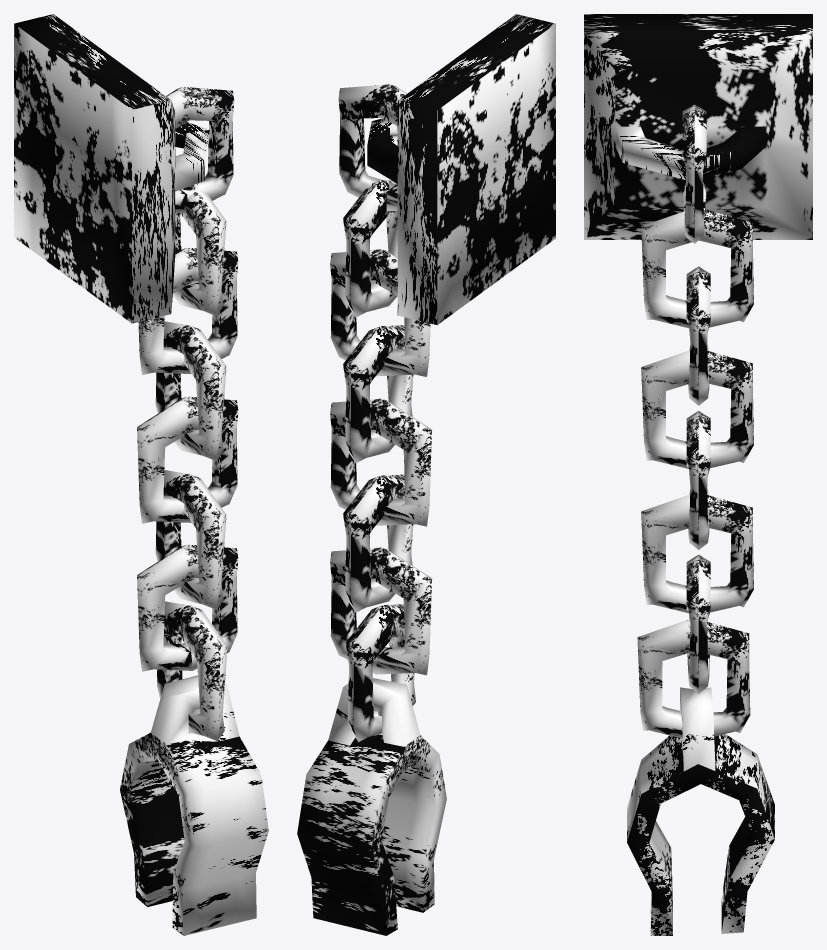
Rendered from Kette_1.fbx.
3 views of the same model, side by side, from view 1: azimuth 30°, elevation 25°; view 2: azimuth 150°, elevation 25°; view 3: azimuth 270°, elevation 25° (orthographic). The views are drawn at different scales.
Visible parts, largest first — view 1: Cube.025, Cube.026, Cube.021, Cube.016, Cube.022, Cube.023, Cube.018, Cube.020, Cube.017, Cube.024; view 2: Cube.025, Cube.026, Cube.016, Cube.021, Cube.022, Cube.023, Cube.020, Cube.018, Cube.024, Cube.017; view 3: Cube.025, Cube.026, Cube.024, Cube.022, Cube.023, Cube.018, Cube.017, Cube.016, Cube.021, Cube.020.
Boxes of the visible parts, <box> form: Cube.025: <box>14,14,209,323</box>; Cube.026: <box>120,675,268,935</box>; Cube.021: <box>137,396,238,523</box>; Cube.016: <box>137,544,238,671</box>; Cube.022: <box>155,470,226,609</box>; Cube.023: <box>155,321,226,460</box>; Cube.018: <box>157,601,227,741</box>; Cube.020: <box>138,247,238,374</box>; Cube.017: <box>166,87,234,212</box>; Cube.024: <box>172,183,226,315</box>; Cube.025: <box>367,14,555,324</box>; Cube.026: <box>297,678,446,935</box>; Cube.016: <box>330,547,432,675</box>; Cube.021: <box>330,398,431,526</box>; Cube.022: <box>343,474,413,612</box>; Cube.023: <box>343,325,413,463</box>; Cube.020: <box>330,249,430,376</box>; Cube.018: <box>345,604,415,742</box>; Cube.024: <box>343,180,397,317</box>; Cube.017: <box>338,84,406,211</box>; Cube.025: <box>584,14,812,239</box>; Cube.026: <box>627,687,774,935</box>; Cube.024: <box>641,209,753,328</box>; Cube.022: <box>641,494,753,613</box>; Cube.023: <box>641,350,753,468</box>; Cube.018: <box>637,619,750,738</box>; Cube.017: <box>682,104,706,243</box>; Cube.016: <box>686,554,710,693</box>; Cube.021: <box>686,411,710,549</box>; Cube.020: <box>686,266,710,405</box>.
Bounding box in the file's own units: 6.61 × 33.43 × 8.19.
